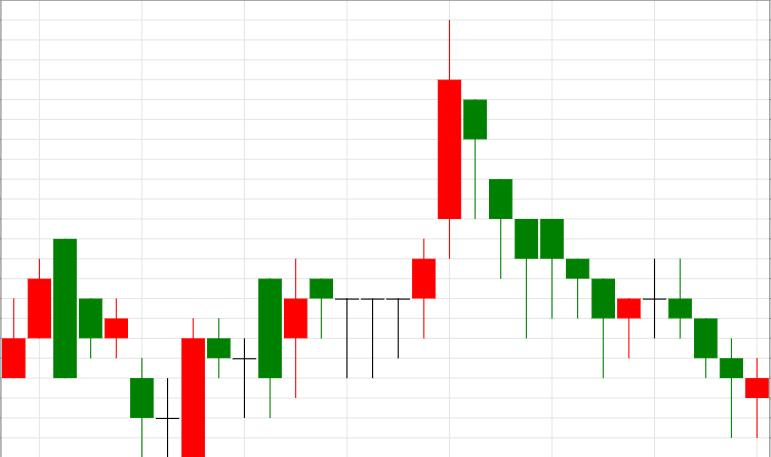hammer_rise: (463, 97, 615, 378)
hanging_man_fall: (284, 19, 488, 398)
